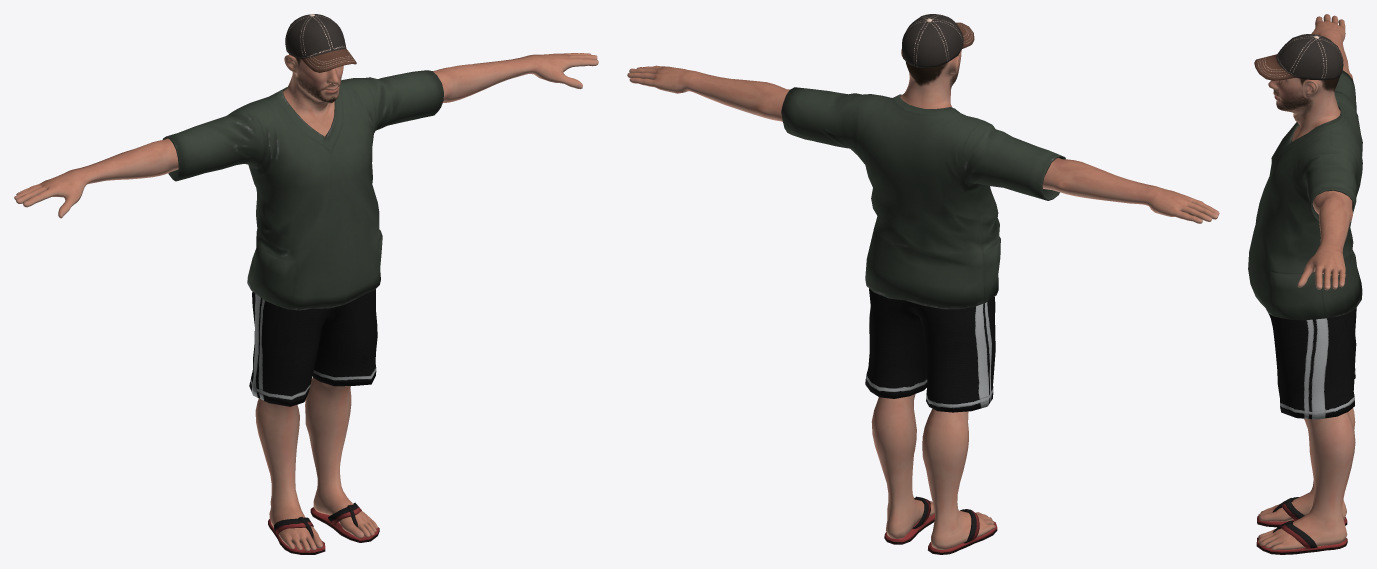
File: Tony.obj
3 views of the same model, side by side, from view 1: azimuth 30°, elevation 25°; view 2: azimuth 150°, elevation 25°; view 3: azimuth 270°, elevation 25° (orthographic). The views are drawn at different scales.
Parts seen in each view (by area): view 1: Tops, Body, Bottoms, Hats, Shoes; view 2: Tops, Body, Bottoms, Hats, Shoes; view 3: Tops, Body, Bottoms, Hats, Shoes.
Boxes of the visible parts, bbox=[...] form: Tops: bbox=[162, 70, 443, 310]; Body: bbox=[14, 53, 598, 550]; Bottoms: bbox=[249, 289, 377, 406]; Hats: bbox=[285, 14, 356, 72]; Shoes: bbox=[268, 502, 379, 554]; Tops: bbox=[781, 87, 1065, 309]; Body: bbox=[627, 49, 1219, 549]; Bottoms: bbox=[865, 288, 995, 412]; Hats: bbox=[902, 14, 974, 67]; Shoes: bbox=[884, 496, 997, 554]; Tops: bbox=[1248, 70, 1362, 320]; Body: bbox=[1258, 14, 1355, 550]; Bottoms: bbox=[1269, 308, 1356, 419]; Hats: bbox=[1254, 34, 1343, 80]; Shoes: bbox=[1256, 497, 1347, 554].
Size of the model in its own units: 213 by 180 by 37.54.
Materials: 1 (1 with a texture image).
